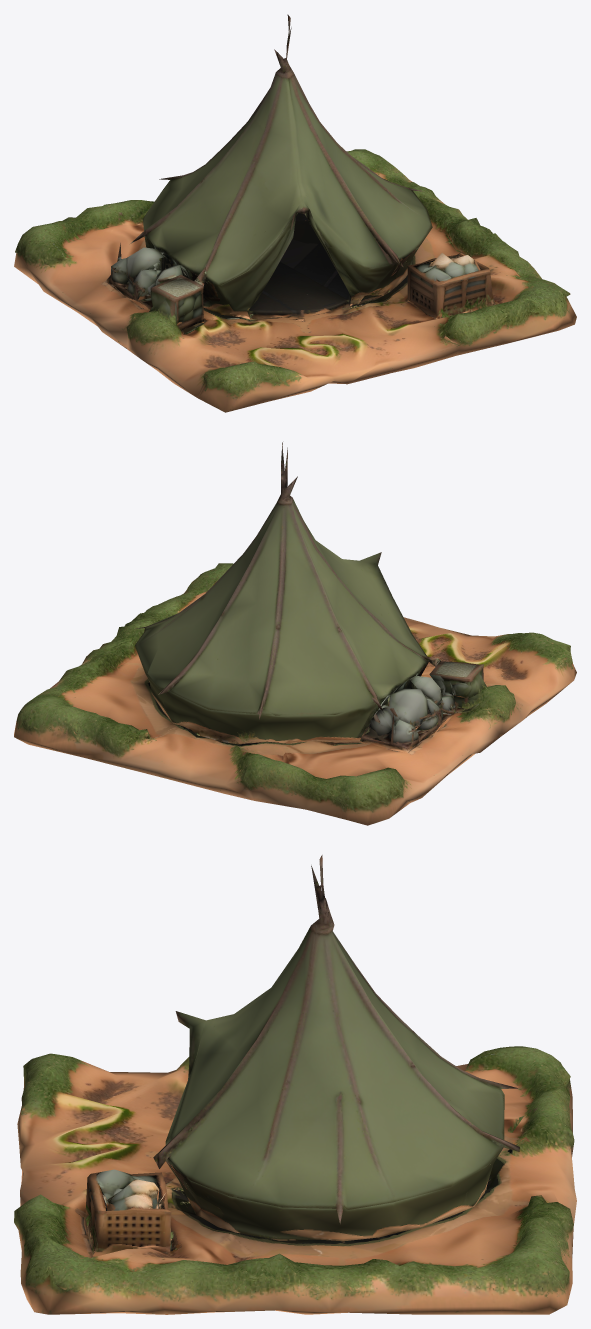
The model's file is camp_site.glb.
3 views of the same model, one above another, from view 1: azimuth 30°, elevation 25°; view 2: azimuth 150°, elevation 25°; view 3: azimuth 270°, elevation 25° (orthographic). The views are drawn at different scales.
Visible parts, largest first — view 1: Mesh1.0; view 2: Mesh1.0; view 3: Mesh1.0.
Part boxes in pixels (x1,y1,x2,y2): Mesh1.0: (14, 14, 576, 412); Mesh1.0: (14, 442, 576, 825); Mesh1.0: (14, 855, 576, 1314).
Size of the model in its own units: 1.84 by 1.26 by 1.84.
1 material, 1 textured.
